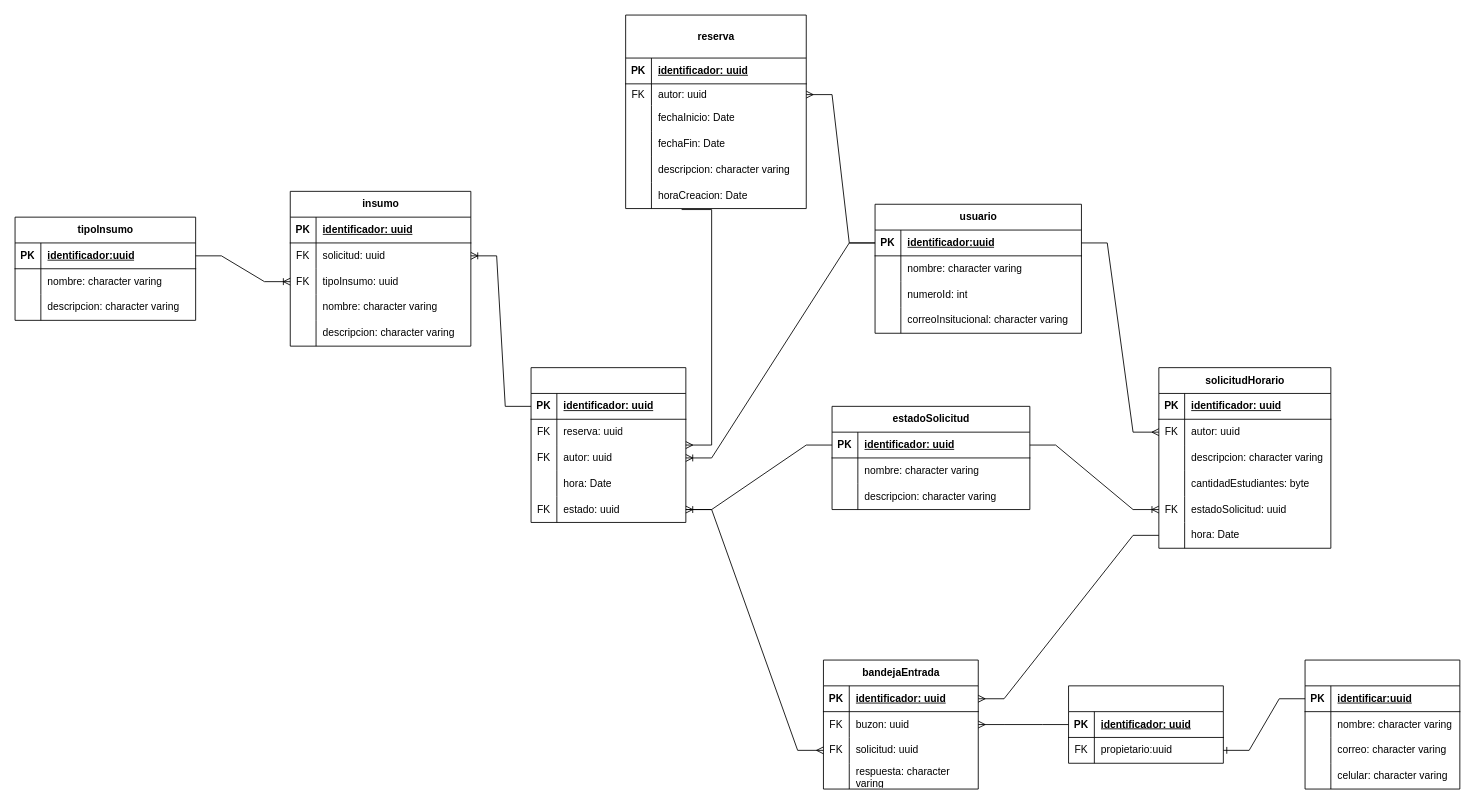
The diagram is 1475 pixels wide and 804 high, and some of its shapes have lost their labels. Here are the shapes that lost their labels. From the top down, the box of each, then its label:
(530, 367, 686, 522): solicitudInsumo
(1068, 685, 1223, 763): buzon
(1304, 659, 1460, 789): coordinador
